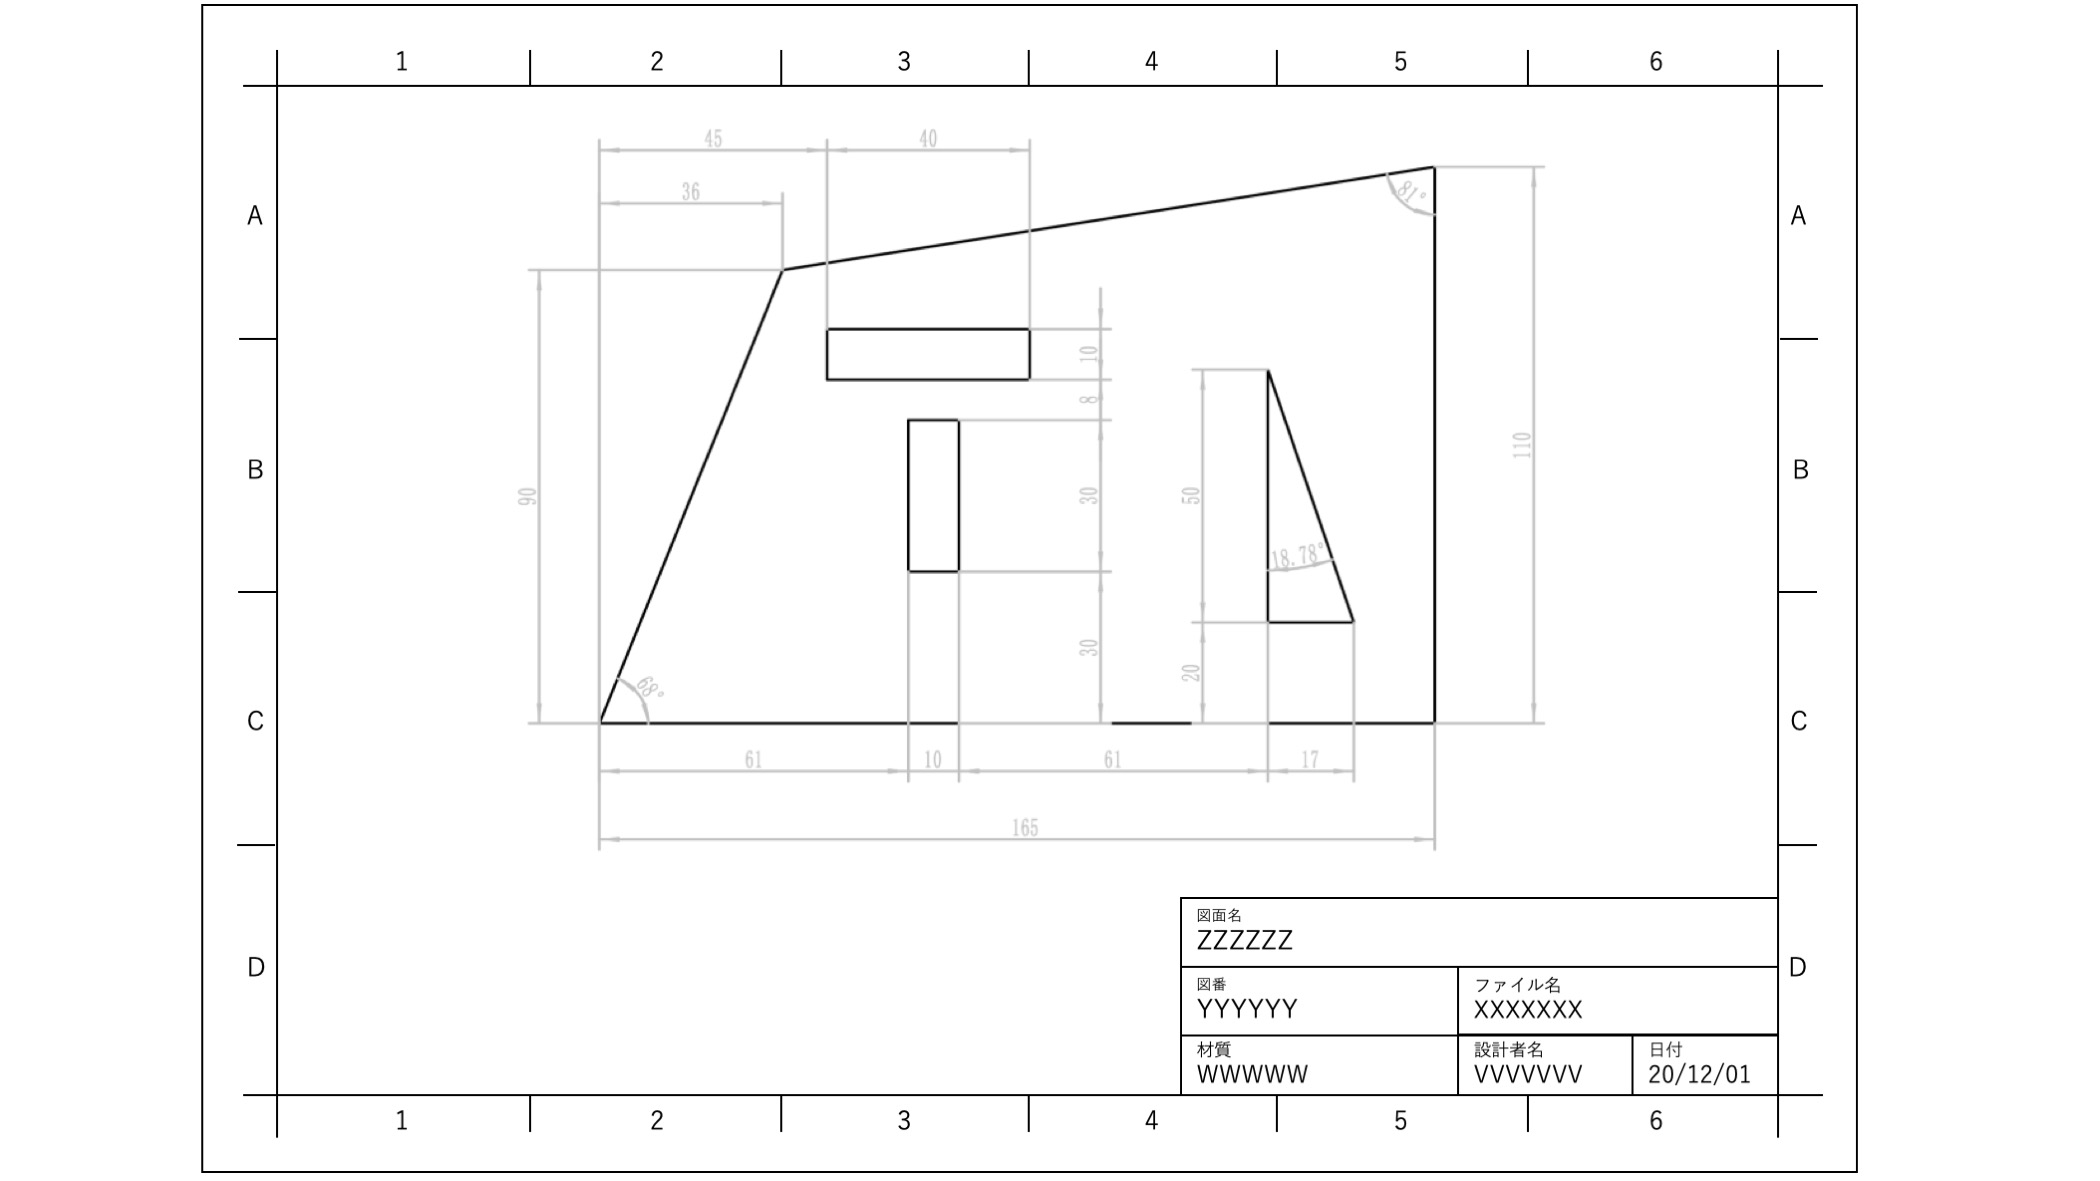rectangle: (816, 317, 1041, 388), (899, 408, 968, 585)
triangle: (1250, 355, 1359, 637)
